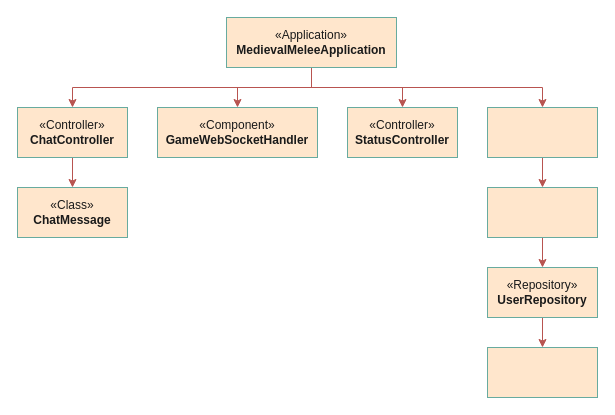
The diagram is 615 pixels wide and 415 high, and some of its shapes have lost their labels. Each missing label, with the centre of its shape:
"«Class» User" goes at [542,372].
"«Controller» UserController" goes at [542,132].
"«Service» UserService" goes at [542,212].
